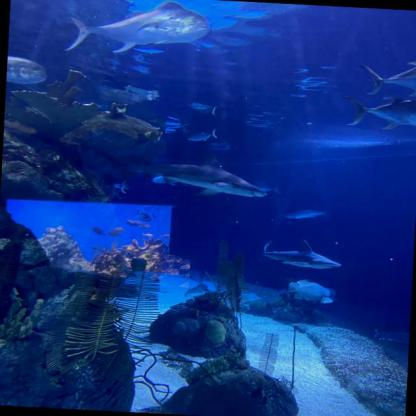fish: (64, 0, 212, 59), (342, 94, 416, 135), (358, 59, 416, 98), (288, 279, 334, 305), (6, 56, 47, 85), (284, 208, 328, 222), (150, 174, 188, 186), (188, 128, 218, 143), (106, 178, 130, 194), (250, 182, 282, 194), (134, 211, 151, 222), (124, 218, 142, 228), (108, 228, 123, 238), (92, 226, 106, 236), (143, 232, 153, 238), (140, 223, 150, 228), (115, 228, 127, 232), (161, 234, 171, 238), (152, 211, 156, 219)
shark: (94, 143, 267, 201), (261, 238, 342, 271), (183, 282, 211, 300)
stingray: (374, 330, 410, 345)
